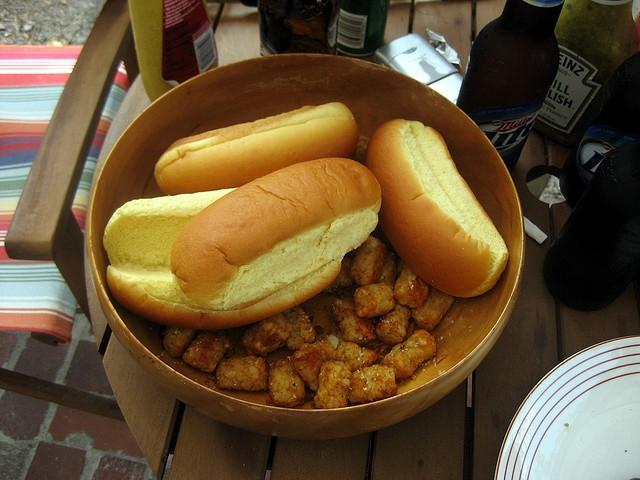potato: (381, 330, 436, 380), (332, 298, 377, 347), (182, 329, 233, 372), (411, 285, 456, 332), (215, 354, 269, 392), (348, 363, 398, 403), (242, 314, 292, 354), (268, 356, 306, 408), (350, 235, 388, 286), (314, 360, 352, 409), (290, 342, 328, 391), (375, 298, 412, 346), (280, 304, 316, 350), (394, 262, 429, 309), (354, 282, 396, 318), (332, 340, 378, 372), (160, 326, 200, 358), (377, 258, 397, 287)
